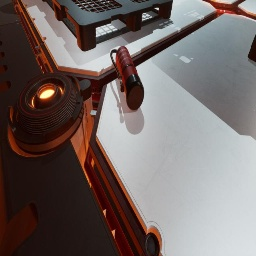FireExtinguisher ]: (110, 46, 144, 111)
